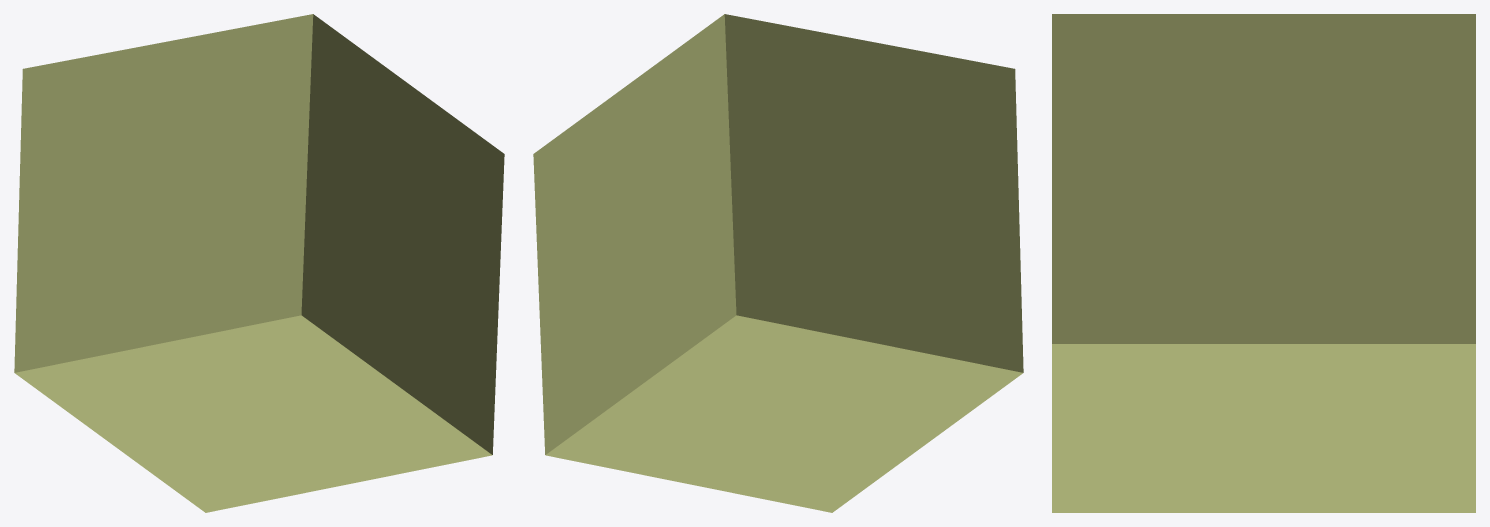
3 views of the same model, side by side, from view 1: azimuth 30°, elevation 25°; view 2: azimuth 150°, elevation 25°; view 3: azimuth 270°, elevation 25° (orthographic). The views are drawn at different scales.
Visible parts, largest first — view 1: 0_2_1_3_0_0_3_2_1_3_1; view 2: 0_2_1_3_0_0_3_2_1_3_1; view 3: 0_2_1_3_0_0_3_2_1_3_1.
Boxes of the visible parts, <box> form: 0_2_1_3_0_0_3_2_1_3_1: <box>14,14,504,512</box>; 0_2_1_3_0_0_3_2_1_3_1: <box>533,14,1023,512</box>; 0_2_1_3_0_0_3_2_1_3_1: <box>1052,14,1475,512</box>.
Size of the model in its own units: 8.12 by 8.16 by 9.
